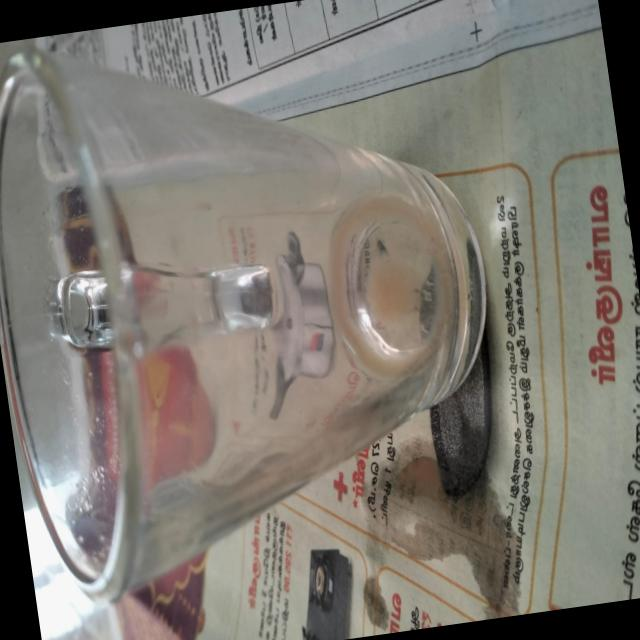glass-VX4N: (0, 0, 522, 615)
